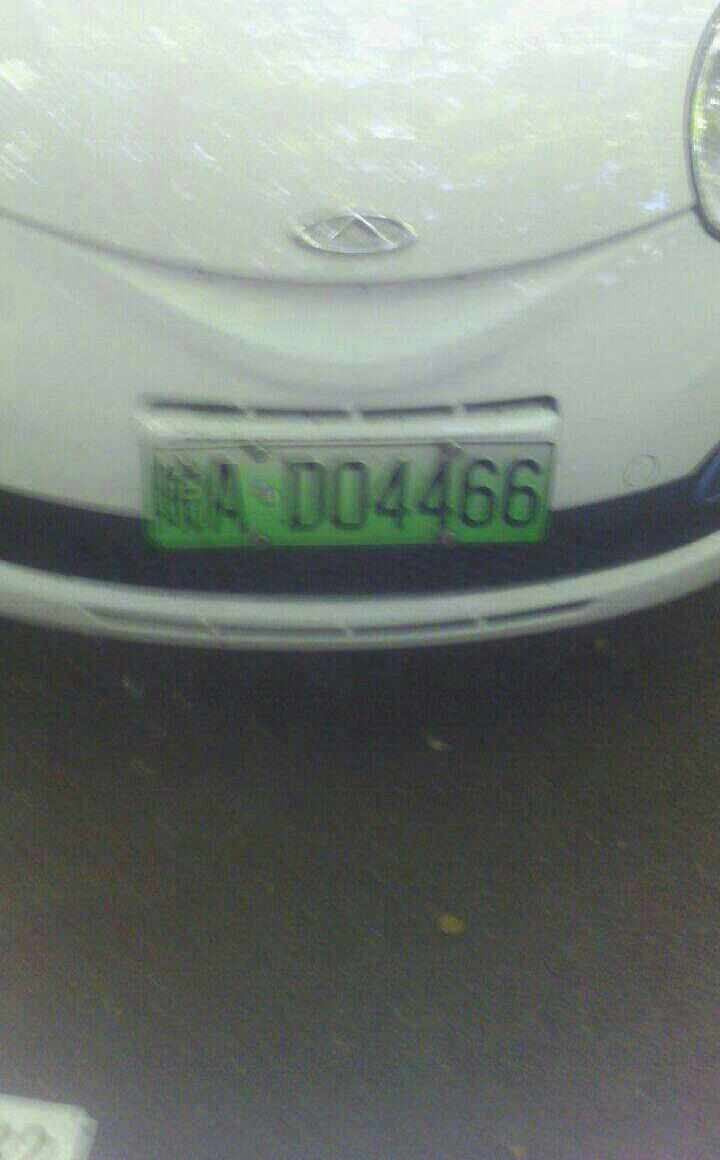car_id: (146, 441, 552, 546)
